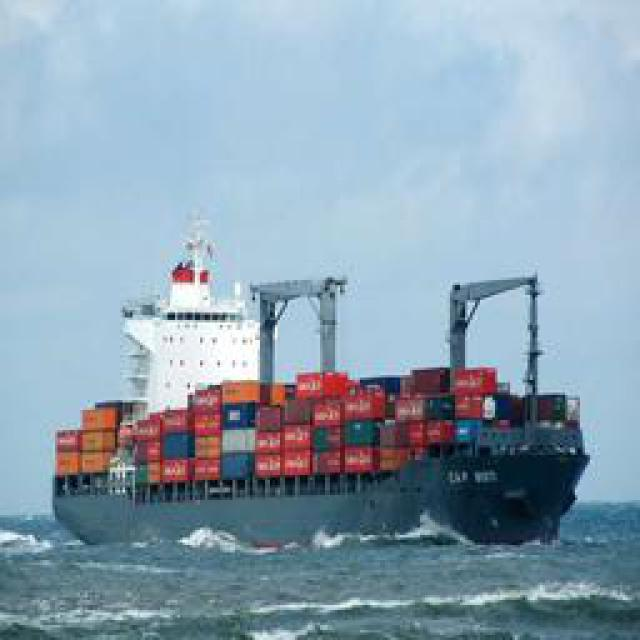Ship: (58, 206, 576, 549)
